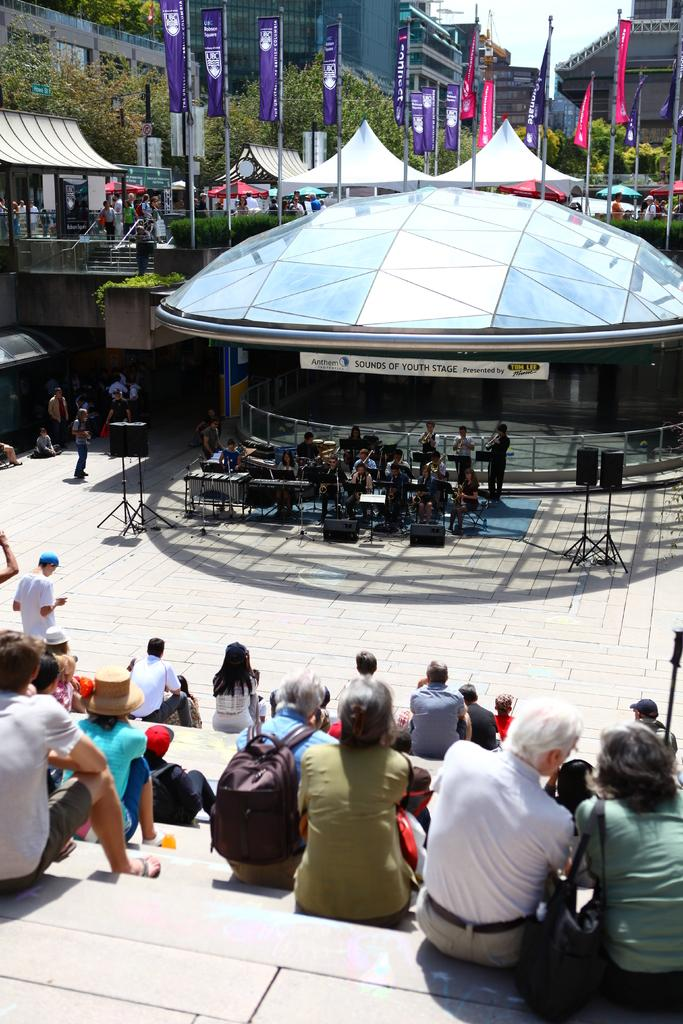Luggage-and-bags: (506, 791, 602, 1023), (211, 732, 322, 897)
